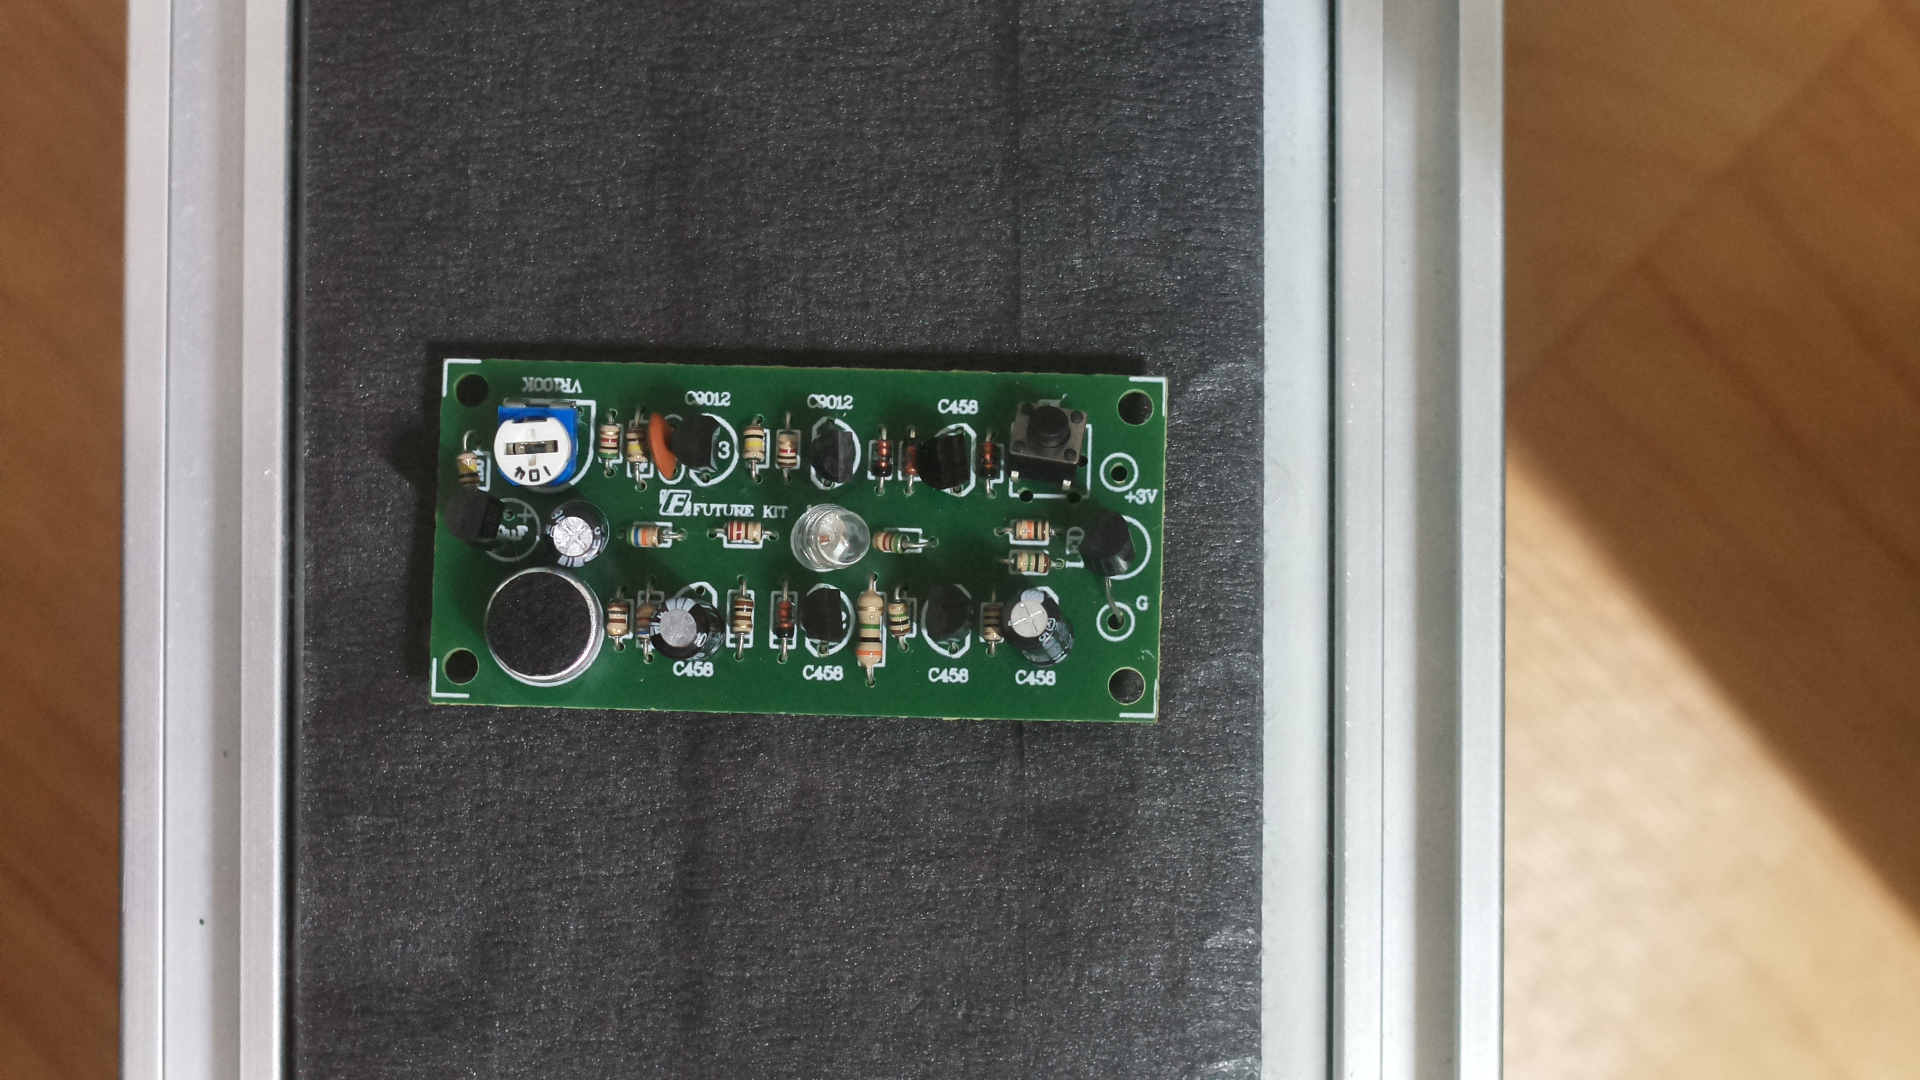A_Misordered: (413, 334, 1203, 752)
